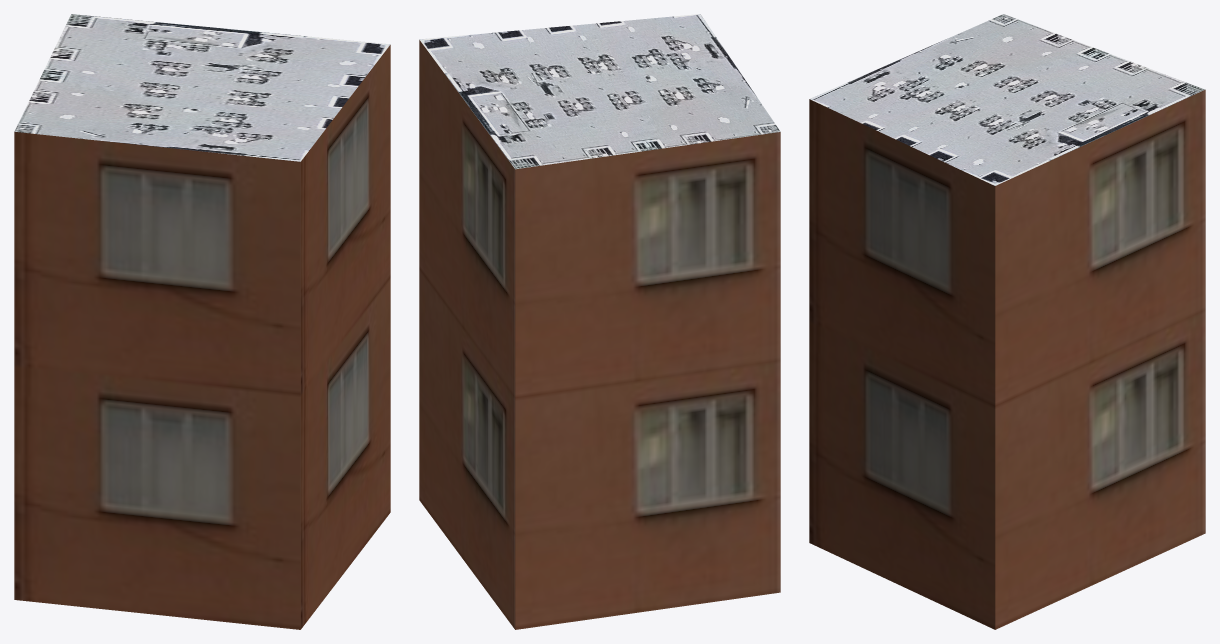
Rendered from ResTex__4837.fbx.
3 views of the same model, side by side, from view 1: azimuth 30°, elevation 25°; view 2: azimuth 150°, elevation 25°; view 3: azimuth 270°, elevation 25° (orthographic). The views are drawn at different scales.
Visible parts, largest first — view 1: CityEngineMaterial_20_m, CityEngineMaterial_m; view 2: CityEngineMaterial_20_m, CityEngineMaterial_m; view 3: CityEngineMaterial_20_m, CityEngineMaterial_m.
Boxes of the visible parts, box(x1,y1,x2,y2) form: CityEngineMaterial_20_m: box(14, 45, 390, 629); CityEngineMaterial_m: box(14, 14, 390, 161); CityEngineMaterial_20_m: box(419, 40, 780, 629); CityEngineMaterial_m: box(419, 14, 780, 169); CityEngineMaterial_20_m: box(809, 89, 1205, 629); CityEngineMaterial_m: box(810, 14, 1204, 185).
Bounding box in the file's own units: 4.99 × 6 × 4.85.
Materials: 2 (2 with a texture image).
